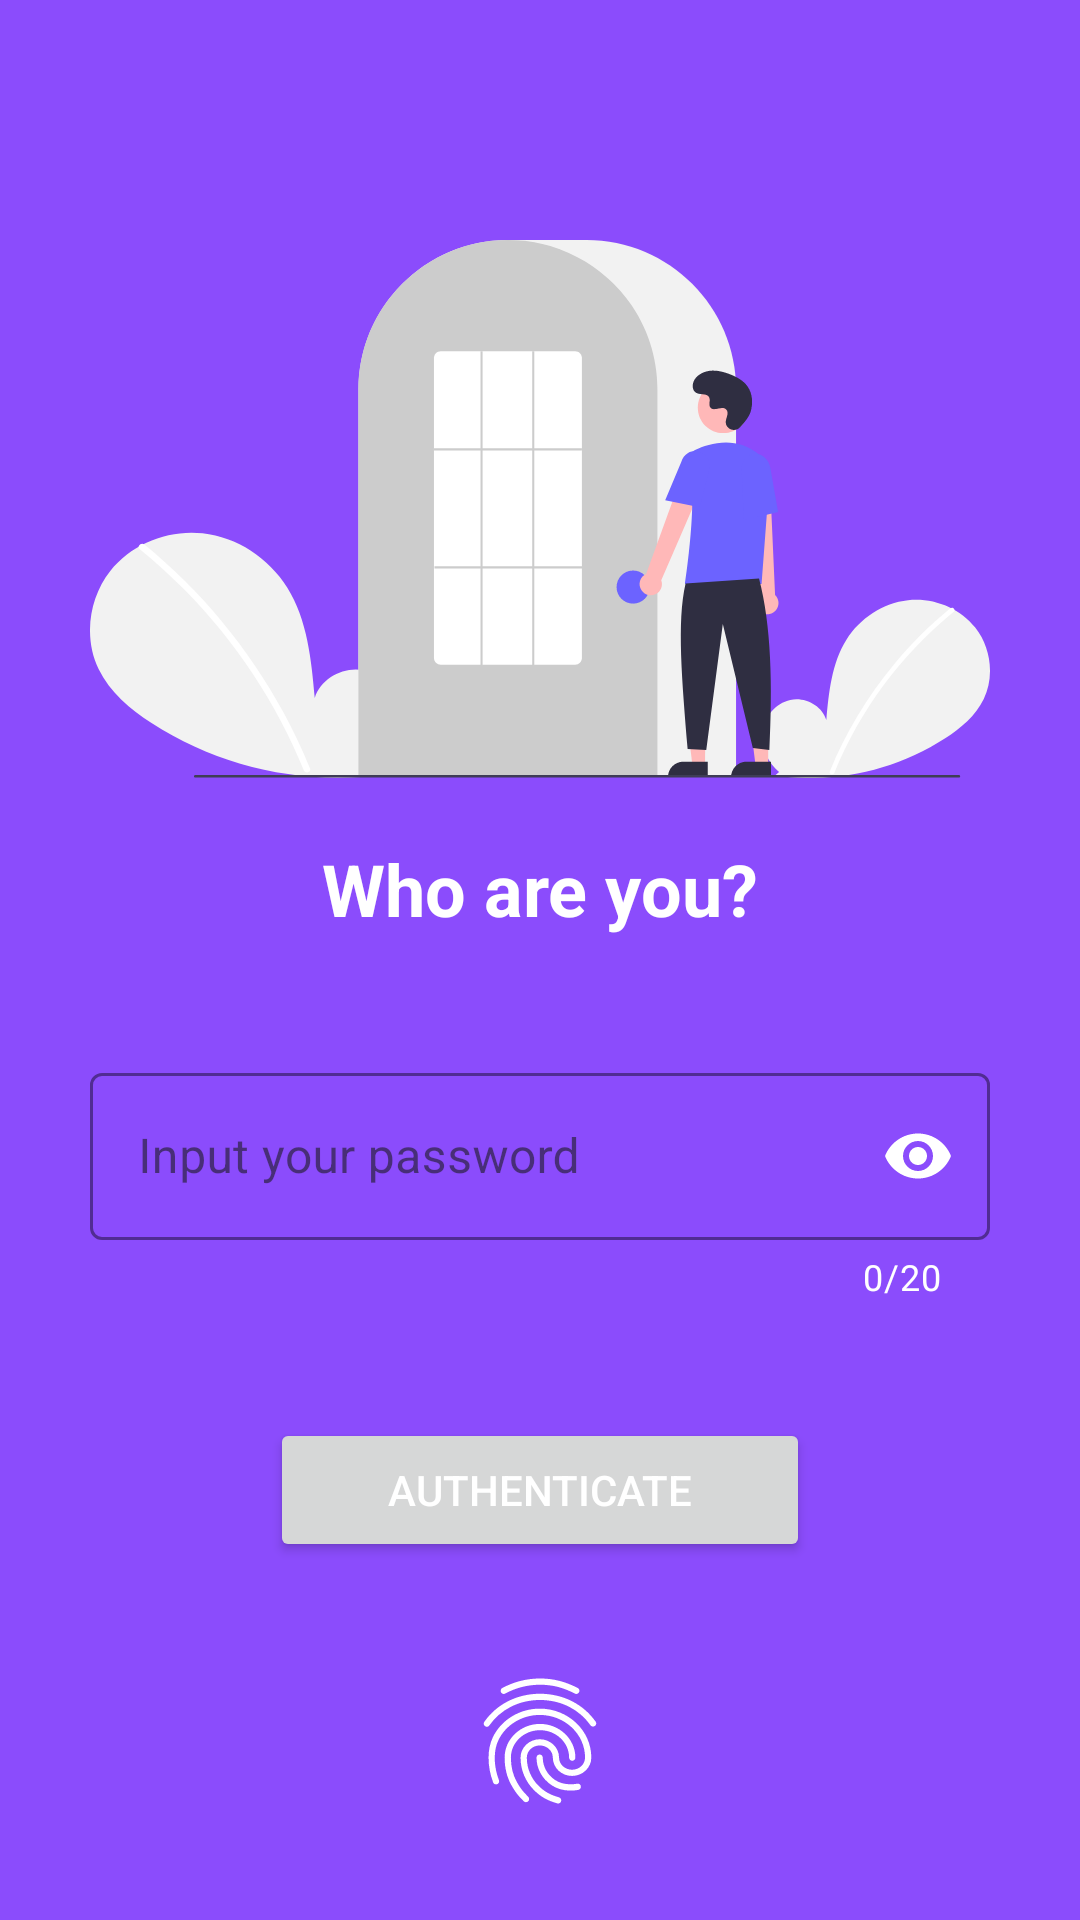

Icons on this 1080*1920 Android screen, each with the point to tap as point (x, y):
fingerprint: point (540, 1741)
